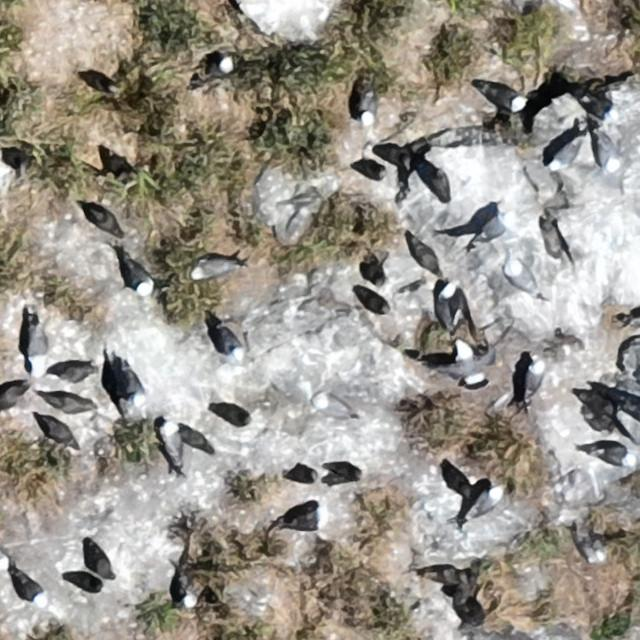F: (436, 334, 504, 388)
umineko: (461, 483, 505, 528), (8, 563, 48, 607), (517, 355, 543, 416), (120, 252, 156, 296), (27, 318, 48, 379), (312, 392, 355, 420), (595, 129, 621, 174), (161, 419, 182, 469), (172, 567, 197, 608), (484, 86, 524, 110), (506, 265, 538, 293), (477, 215, 508, 240), (194, 259, 234, 278), (592, 444, 630, 464), (438, 286, 457, 324), (550, 144, 578, 168), (218, 326, 240, 356), (620, 412, 640, 443), (358, 162, 388, 180), (361, 91, 376, 123), (212, 56, 236, 75)
